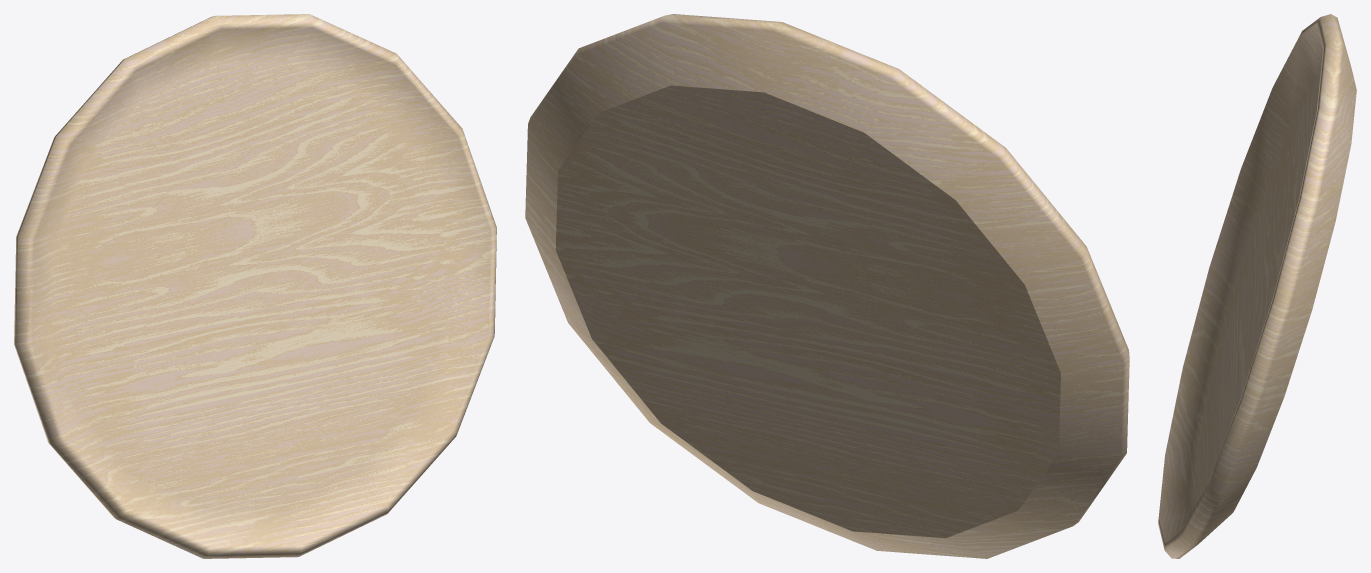
File: prop_024.fbx
The picture shows the model from 3 angles, left to right: view 1: azimuth 30°, elevation 25°; view 2: azimuth 150°, elevation 25°; view 3: azimuth 270°, elevation 25°; orthographic projection. The views are drawn at different scales.
Visible parts, largest first — view 1: prop_024; view 2: prop_024; view 3: prop_024.
Boxes of the visible parts, bbox=[...] form: prop_024: bbox=[14, 14, 496, 558]; prop_024: bbox=[525, 14, 1129, 558]; prop_024: bbox=[1158, 14, 1356, 558].
Size of the model in its own units: 35.75 by 12.52 by 34.1.
